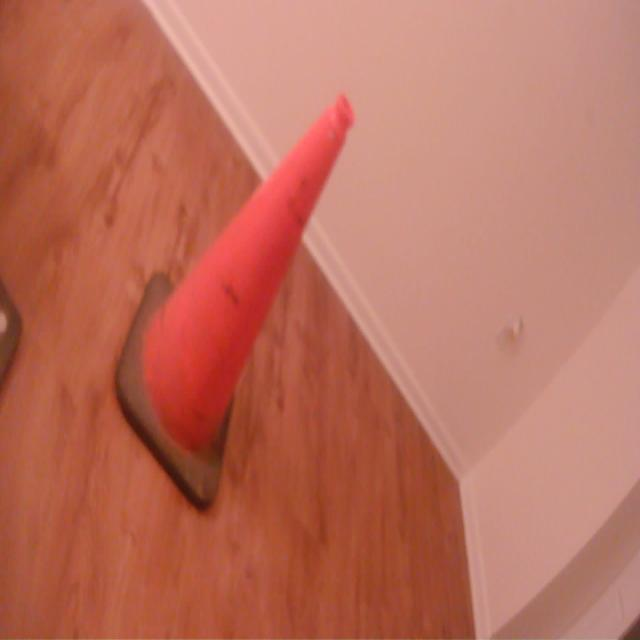traffic cone: (113, 88, 362, 518)
